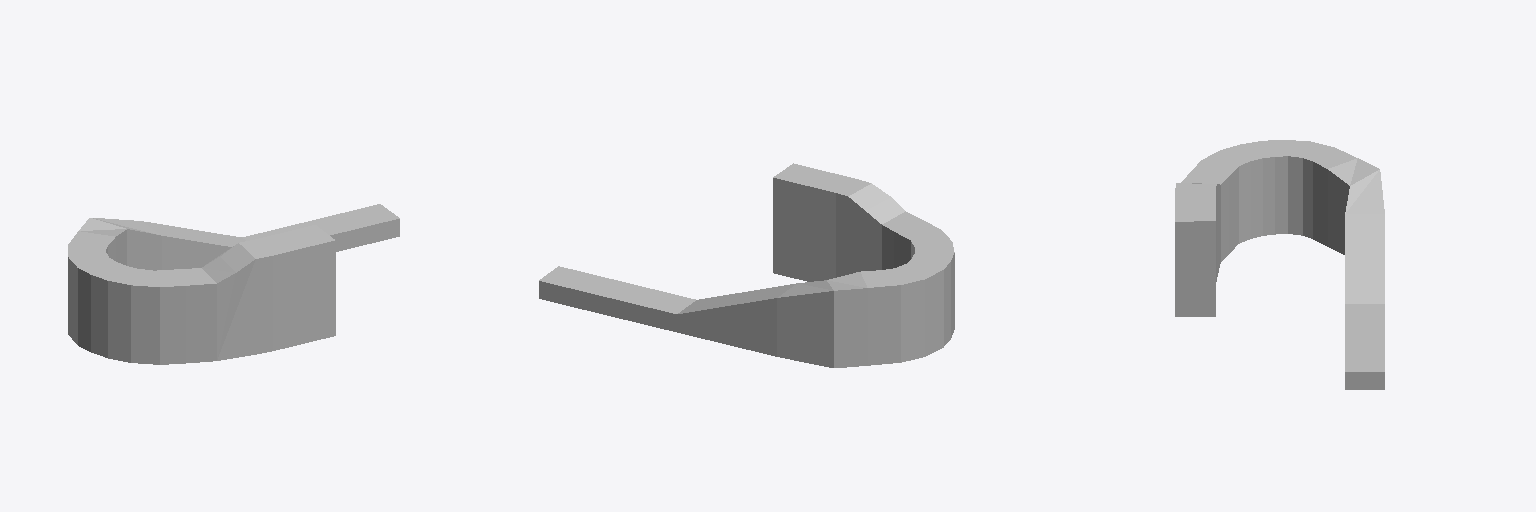
Rendered from Newramp.obj.
3 renders of one model, left to right at view 1: azimuth 30°, elevation 25°; view 2: azimuth 150°, elevation 25°; view 3: azimuth 270°, elevation 25°, orthographic.
Parts seen in each view (by area): view 1: Cube; view 2: Cube; view 3: Cube.
Boxes of the visible parts, x1=… form: Cube: x1=68, y1=204, x2=399, y2=364; Cube: x1=539, y1=163, x2=954, y2=367; Cube: x1=1175, y1=140, x2=1384, y2=389.
Size of the model in its own units: 20.45 by 5.33 by 10.53.